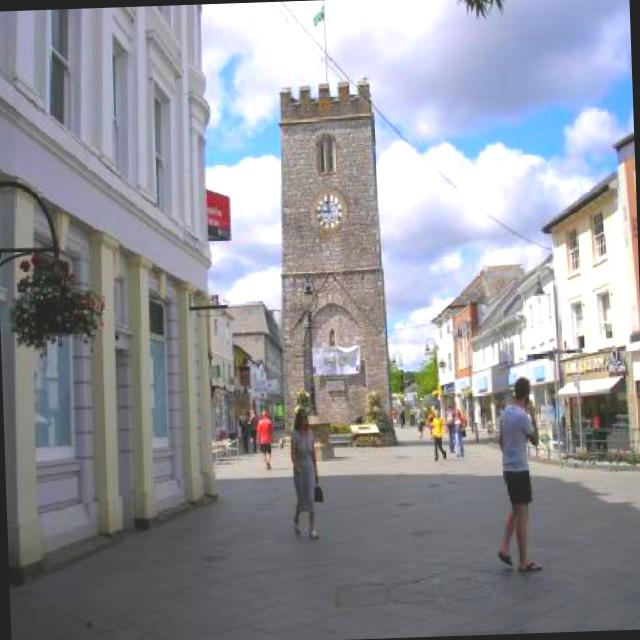Person: (490, 378, 540, 572), (292, 407, 324, 539), (252, 411, 276, 468), (235, 408, 252, 454), (451, 409, 465, 457), (432, 409, 445, 460), (248, 411, 260, 456), (414, 408, 422, 439), (396, 400, 403, 433), (427, 410, 433, 446)
